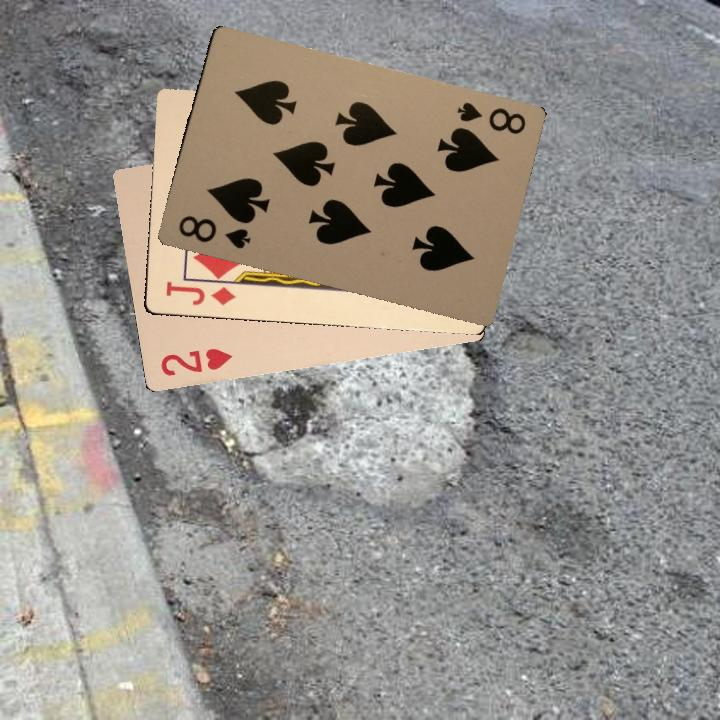2h: (156, 344, 235, 379)
8s: (174, 211, 253, 252), (452, 98, 528, 137)
Jd: (161, 277, 237, 308)
